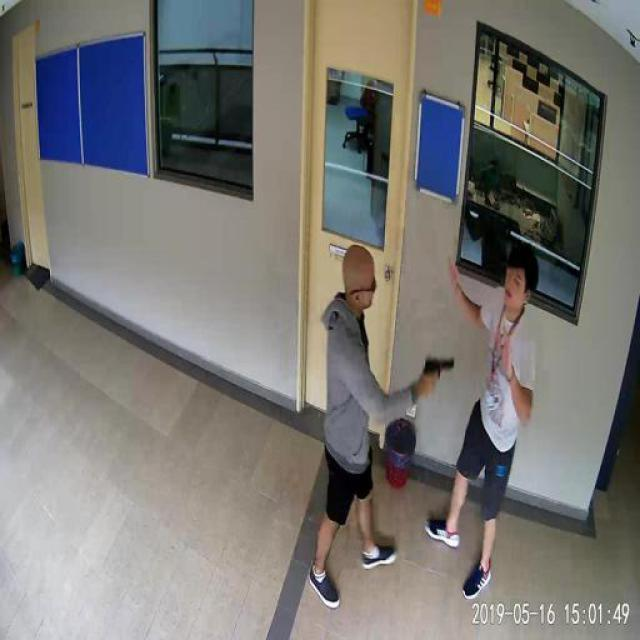weapon: (422, 358, 456, 380)
